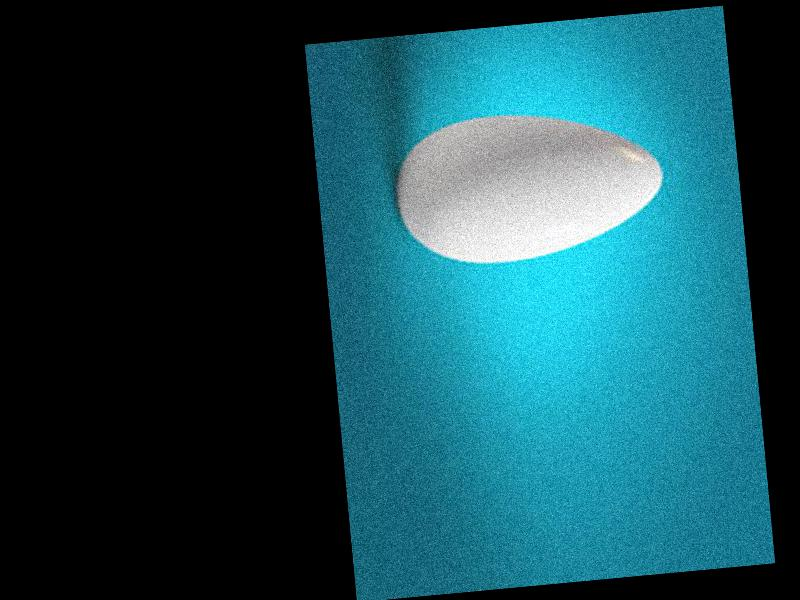Eggs: (389, 100, 667, 272)
